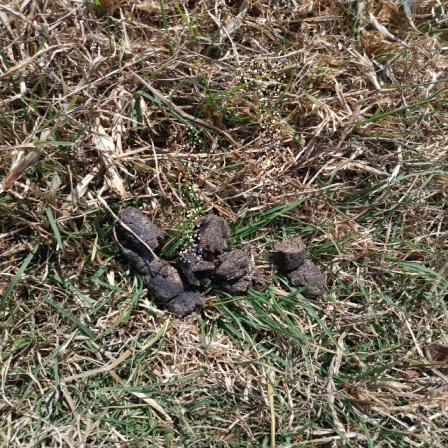dog-poop: (111, 200, 249, 302), (268, 238, 324, 290)
